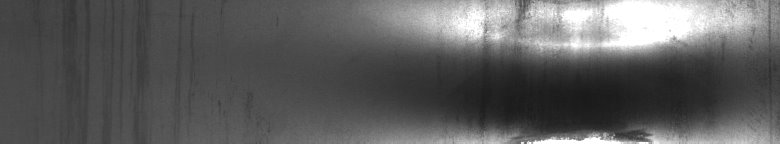ke: (450, 4, 771, 136)
